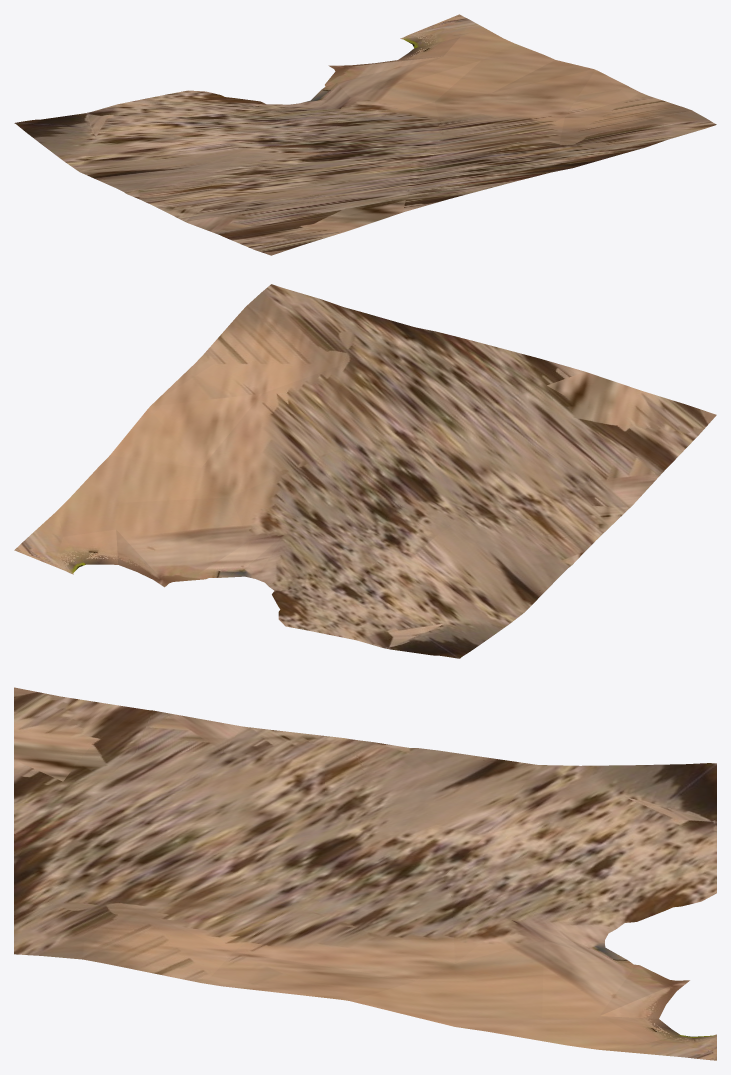
The picture shows the model from 3 angles, top to bottom: view 1: azimuth 30°, elevation 25°; view 2: azimuth 150°, elevation 25°; view 3: azimuth 270°, elevation 25°; orthographic projection. The views are drawn at different scales.
Bounding box in the file's own units: 2.09 × 0.393 × 2.09.
Materials: 2 (2 with a texture image).
